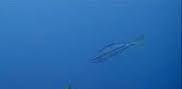smallfish: (83, 27, 150, 72)
